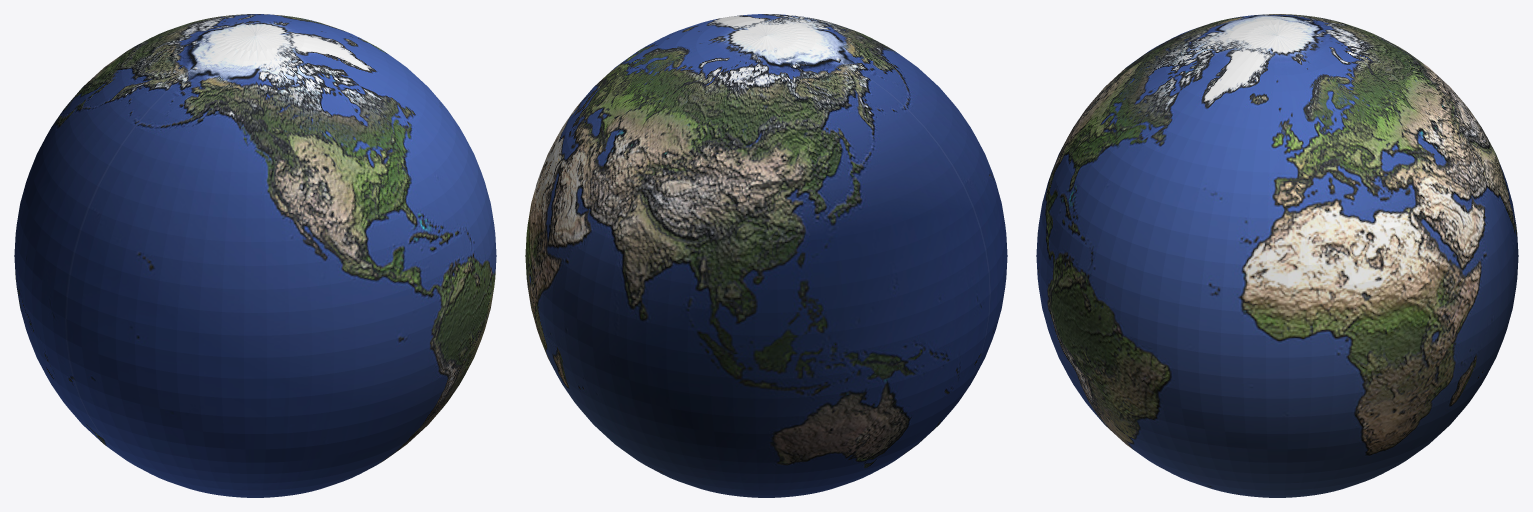
Rendered from tierra.obj.
3 renders of one model, left to right at view 1: azimuth 30°, elevation 25°; view 2: azimuth 150°, elevation 25°; view 3: azimuth 270°, elevation 25°, orthographic.
Parts seen in each view (by area): view 1: Sphere; view 2: Sphere; view 3: Sphere.
Boxes of the visible parts, x1=… form: Sphere: x1=14, y1=14, x2=496, y2=497; Sphere: x1=525, y1=14, x2=1007, y2=497; Sphere: x1=1036, y1=14, x2=1518, y2=497.
Size of the model in its own units: 1.97 by 2 by 1.98.
Materials: 1 (1 with a texture image).
